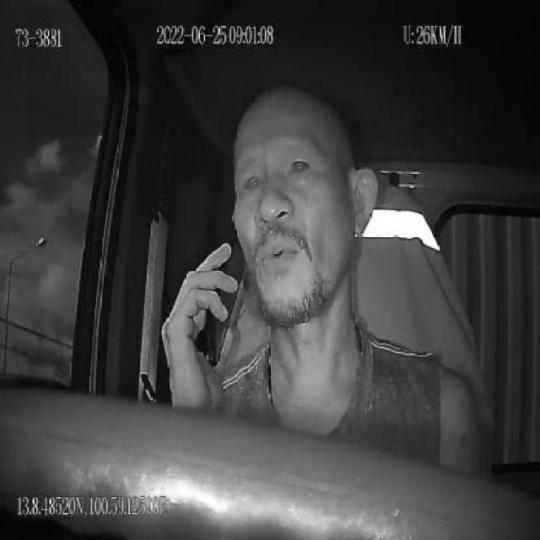phone: (202, 214, 246, 370)
